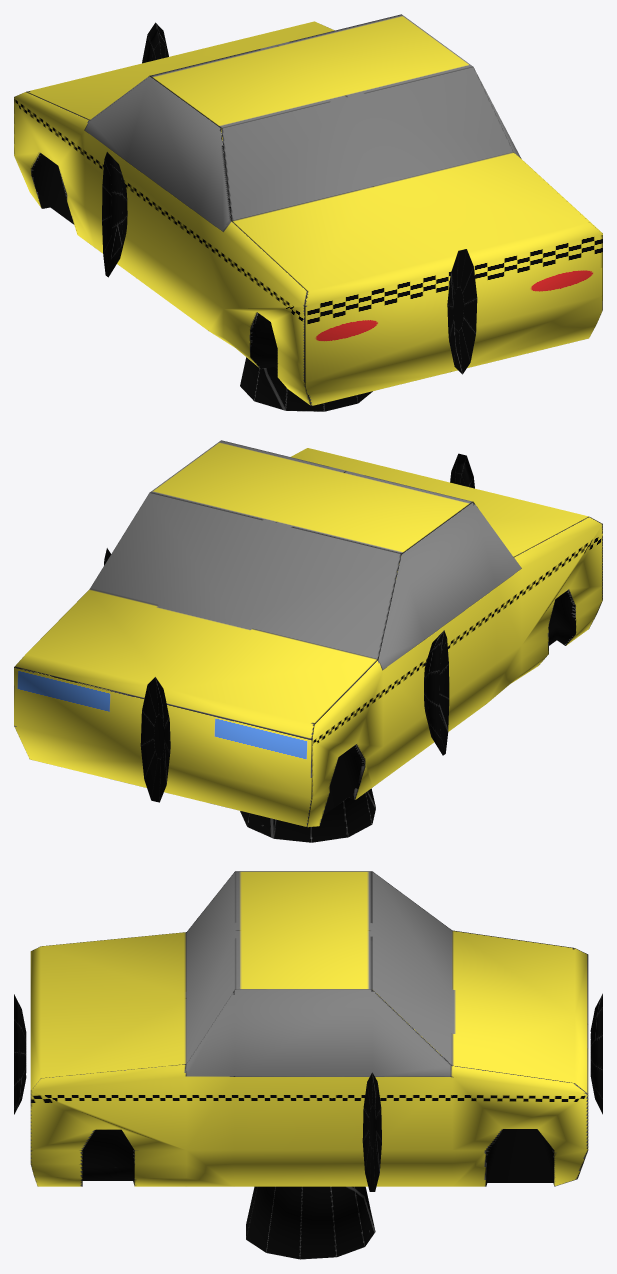
The model's file is taxi.fbx.
3 renders of one model, top to bottom at view 1: azimuth 30°, elevation 25°; view 2: azimuth 150°, elevation 25°; view 3: azimuth 270°, elevation 25°, orthographic. The views are drawn at different scales.
Visible parts, largest first — view 1: Taxi, ThrusterRear, ThrusterLeft, ThrusterBottom, ThrusterFront; view 2: Taxi, ThrusterBottom, ThrusterFront, ThrusterLeft, ThrusterRear; view 3: Taxi, ThrusterBottom, ThrusterRight, ThrusterFront, ThrusterRear.
Boxes of the visible parts, left/top/right/bottom form: Taxi: left=14, top=14, right=602, bottom=405; ThrusterRear: left=447, top=249, right=477, bottom=374; ThrusterLeft: left=102, top=152, right=127, bottom=277; ThrusterBottom: left=240, top=268, right=372, bottom=411; ThrusterFront: left=142, top=22, right=168, bottom=63; Taxi: left=14, top=440, right=602, bottom=827; ThrusterBottom: left=240, top=788, right=375, bottom=842; ThrusterFront: left=140, top=677, right=170, bottom=802; ThrusterLeft: left=424, top=630, right=449, bottom=755; ThrusterRear: left=450, top=453, right=474, bottom=488; Taxi: left=30, top=871, right=588, bottom=1186; ThrusterBottom: left=246, top=1186, right=375, bottom=1259; ThrusterRight: left=362, top=1072, right=381, bottom=1191; ThrusterFront: left=590, top=993, right=602, bottom=1114; ThrusterRear: left=14, top=994, right=26, bottom=1114.
Size of the model in its own units: 2.26 by 2.01 by 3.57.
Materials: 2 (2 with a texture image).
